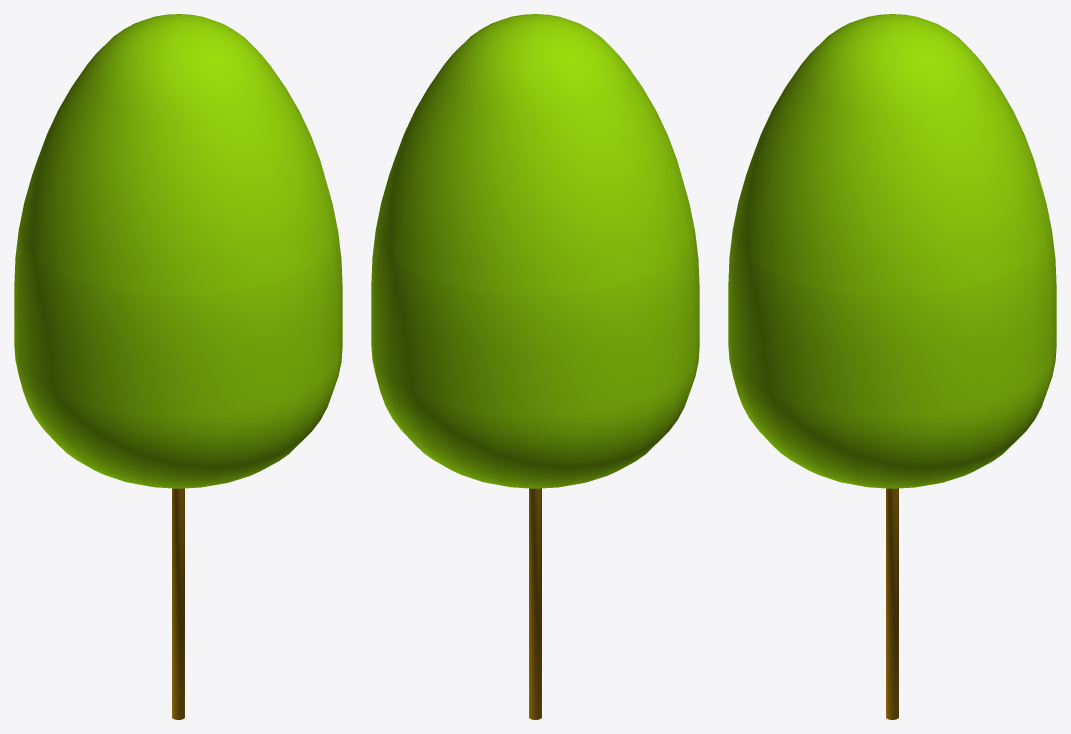
3 views of the same model, side by side, from view 1: azimuth 30°, elevation 25°; view 2: azimuth 150°, elevation 25°; view 3: azimuth 270°, elevation 25° (orthographic).
Visible parts, largest first — view 1: LP17m_kk1; view 2: LP17m_kk1; view 3: LP17m_kk1.
Part boxes in pixels (bbox=[...]): LP17m_kk1: bbox=[14, 14, 342, 719]; LP17m_kk1: bbox=[371, 14, 699, 719]; LP17m_kk1: bbox=[728, 14, 1056, 719].
Size of the model in its own units: 7.51 by 17.51 by 7.51.
